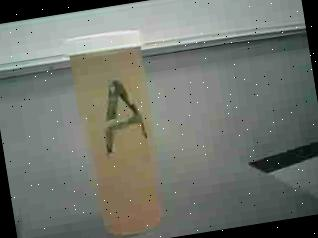Bottle A: (55, 15, 184, 238)
